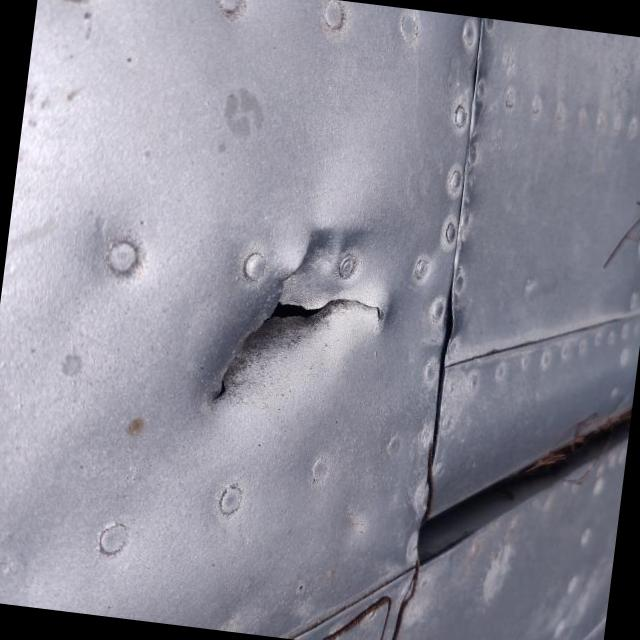Crack: (206, 230, 409, 438)
